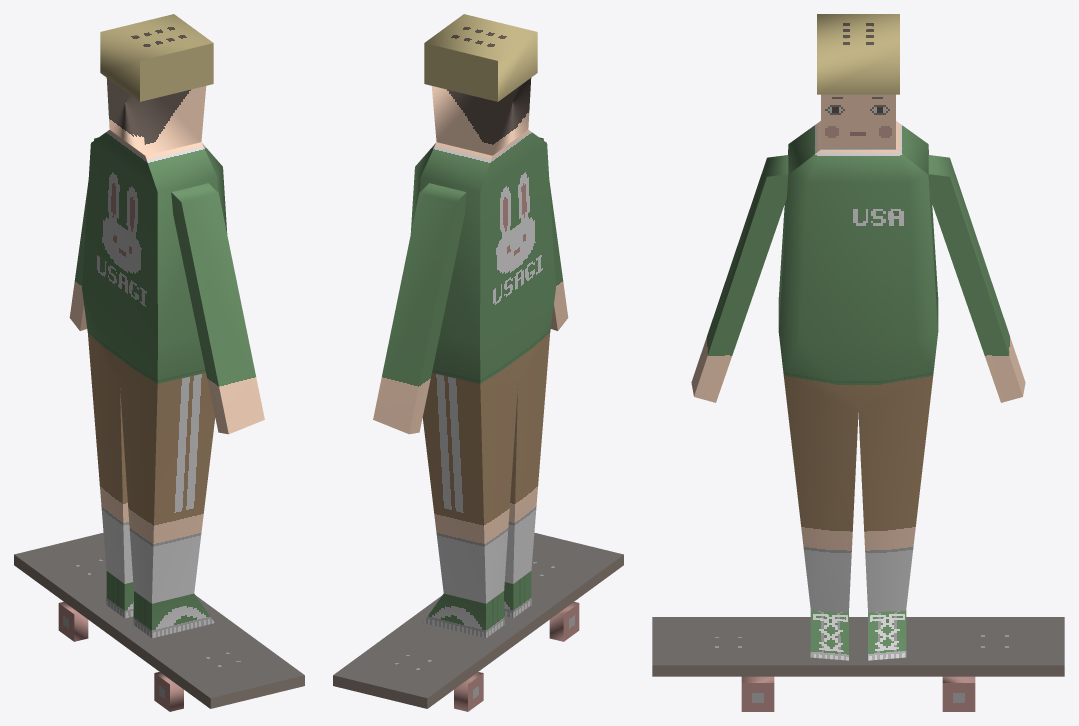
Rendered from 0226_Skater_Boy.glb.
3 views of the same model, side by side, from view 1: azimuth 30°, elevation 25°; view 2: azimuth 150°, elevation 25°; view 3: azimuth 270°, elevation 25° (orthographic). The views are drawn at different scales.
Parts seen in each view (by area): view 1: part_0; view 2: part_0; view 3: part_0.
Boxes of the visible parts, <box> form: part_0: <box>14,14,304,711</box>; part_0: <box>333,14,623,711</box>; part_0: <box>652,14,1064,711</box>.
Size of the model in its own units: 0.2909 by 1.84 by 1.05.
Materials: 1 (1 with a texture image).
